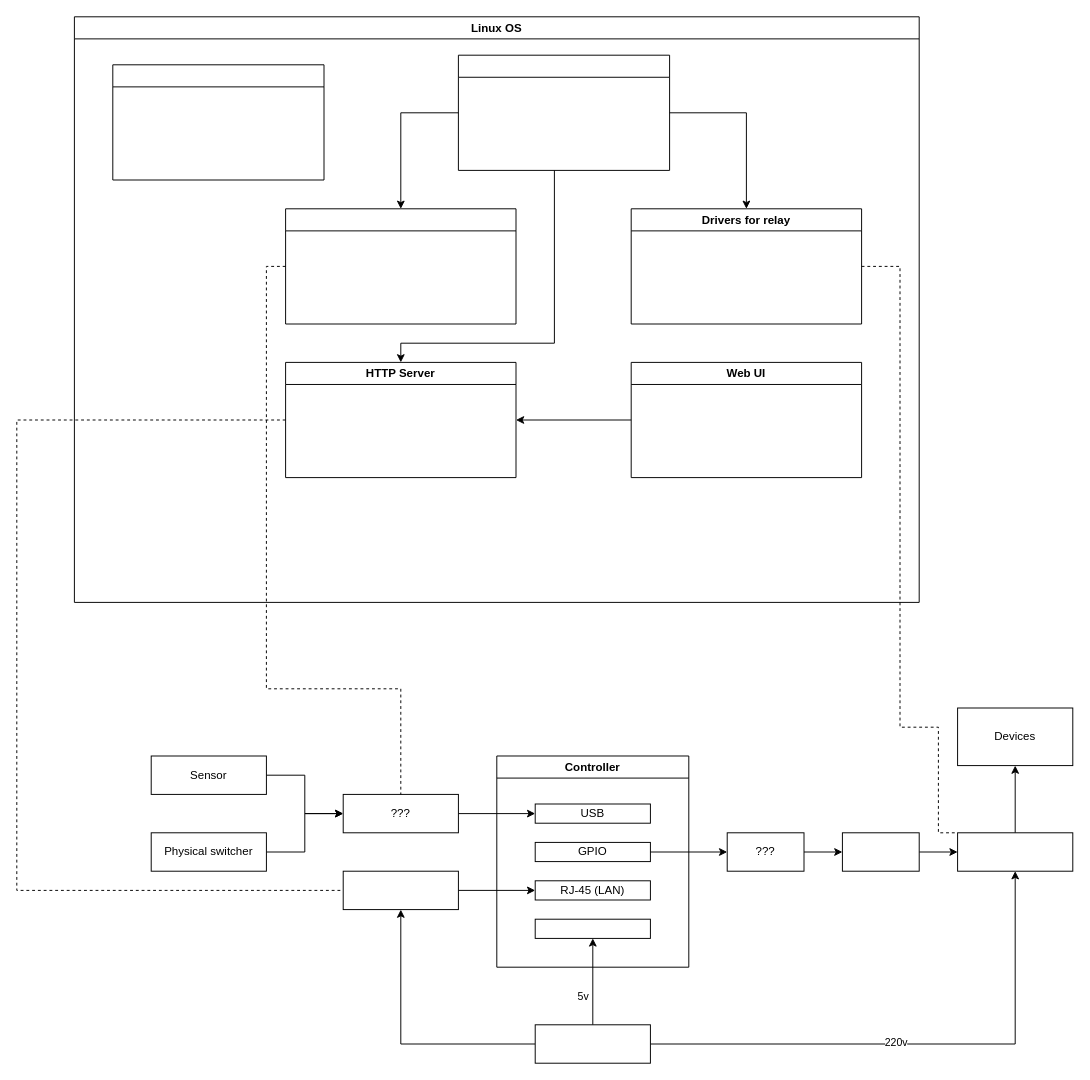
Image size: 1090x1080. Some labels were removed from this diagram. The centre of each missing label's shape, as x and y in pixels:
Adapter ???: [880,851]
Data Base: [218,122]
Drivers for usb reader: [400,266]
Power: [592,928]
Relays: [1015,851]
Router: [400,890]
Smart Home Application: [563,112]
